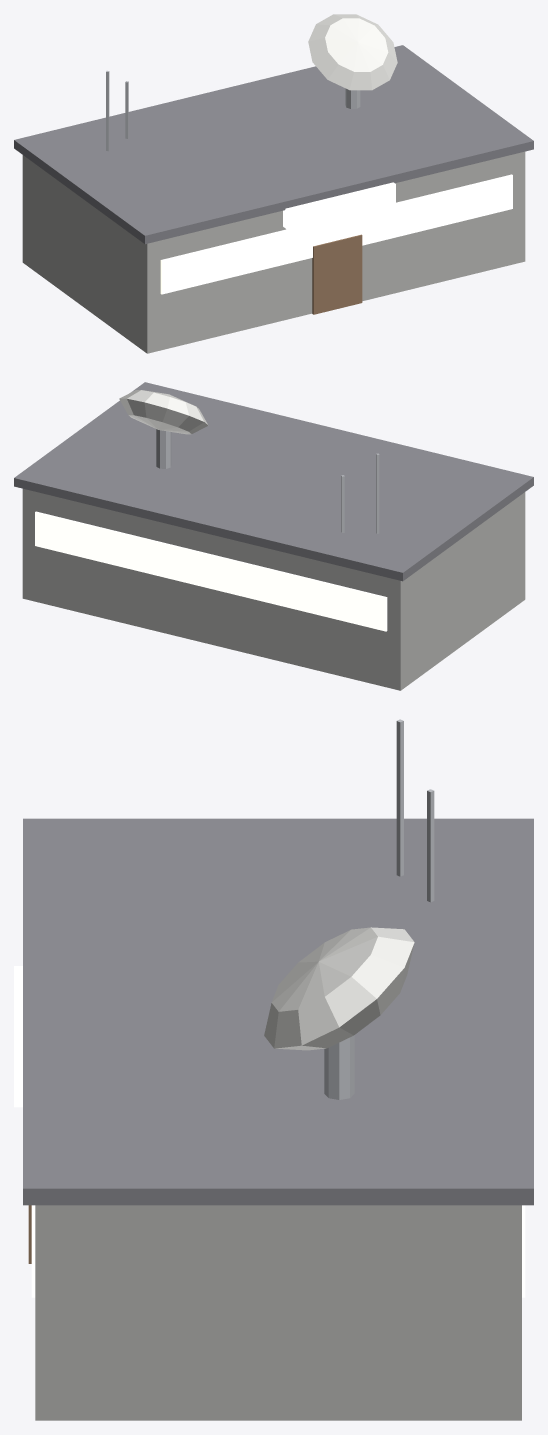
Rendered from mission_control.glb.
The picture shows the model from 3 angles, top to bottom: view 1: azimuth 30°, elevation 25°; view 2: azimuth 150°, elevation 25°; view 3: azimuth 270°, elevation 25°; orthographic projection. The views are drawn at different scales.
Parts seen in each view (by area): view 1: mission_control; view 2: mission_control; view 3: mission_control.
Boxes of the visible parts, left/top/right/bottom form: mission_control: left=14, top=14, right=533, bottom=353; mission_control: left=14, top=382, right=533, bottom=690; mission_control: left=14, top=719, right=533, bottom=1420.
Bounding box in the file's own units: 14.4 × 7.15 × 8.55.
